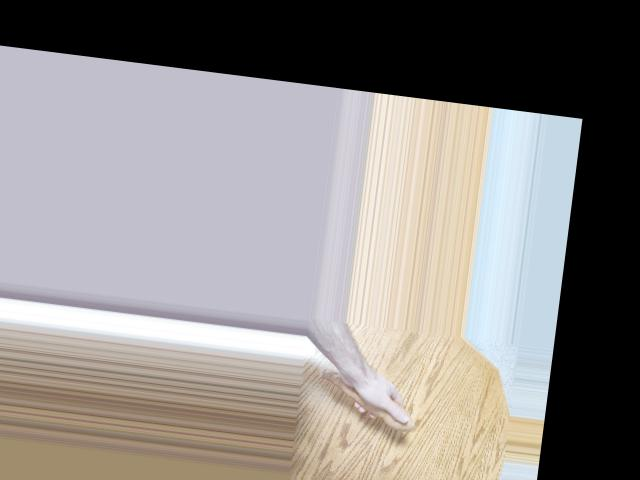sweet_potato: (308, 364, 421, 435)
